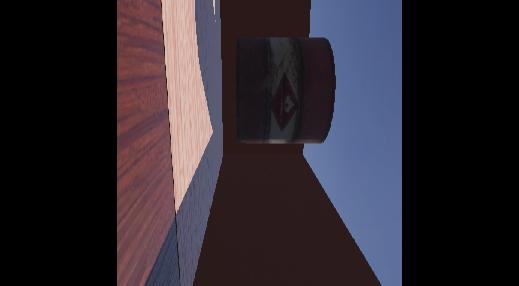OilBarrel: (215, 18, 342, 150)
